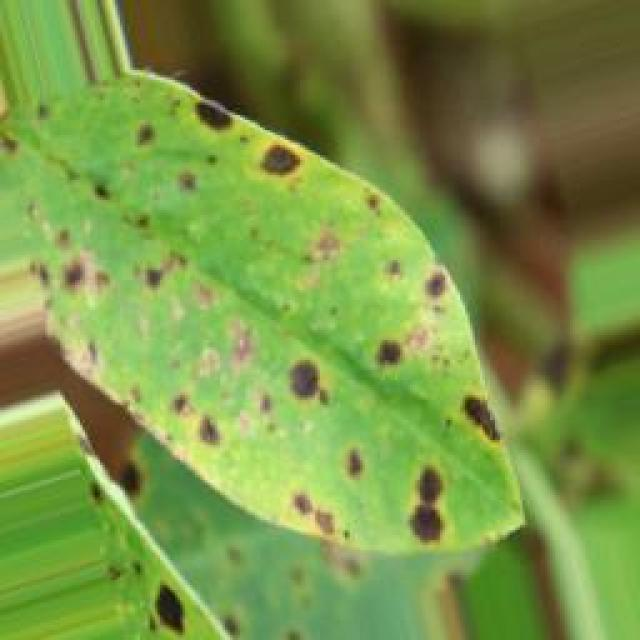Yellowish: (0, 81, 527, 567)
